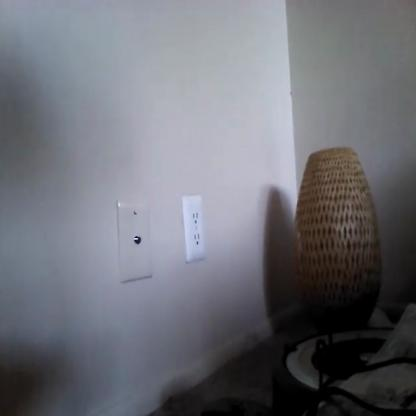OUTLET: (181, 196, 206, 261)
